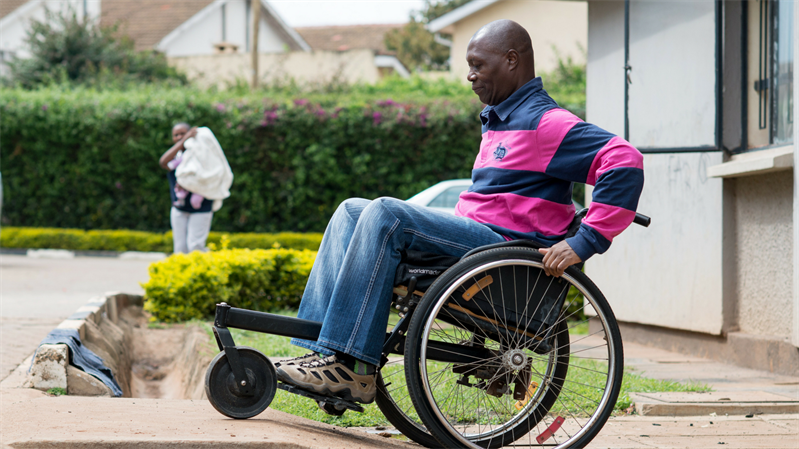person: (418, 29, 640, 257)
wheelchair: (206, 250, 621, 447)
